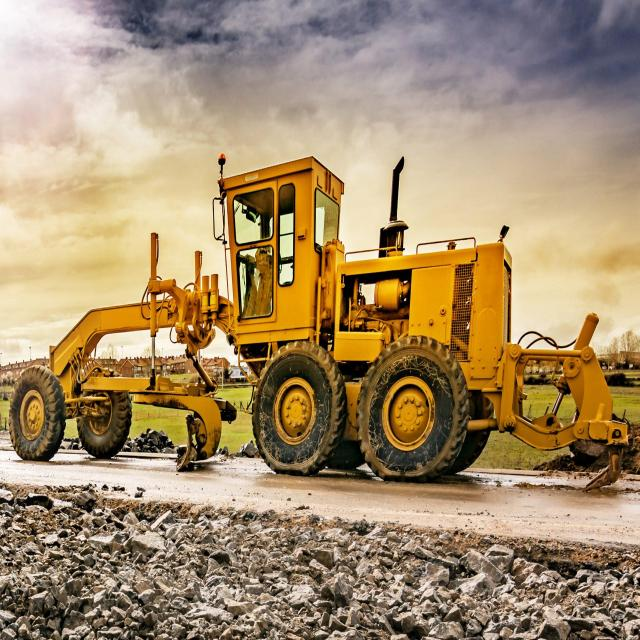Grader: (4, 148, 640, 501)
